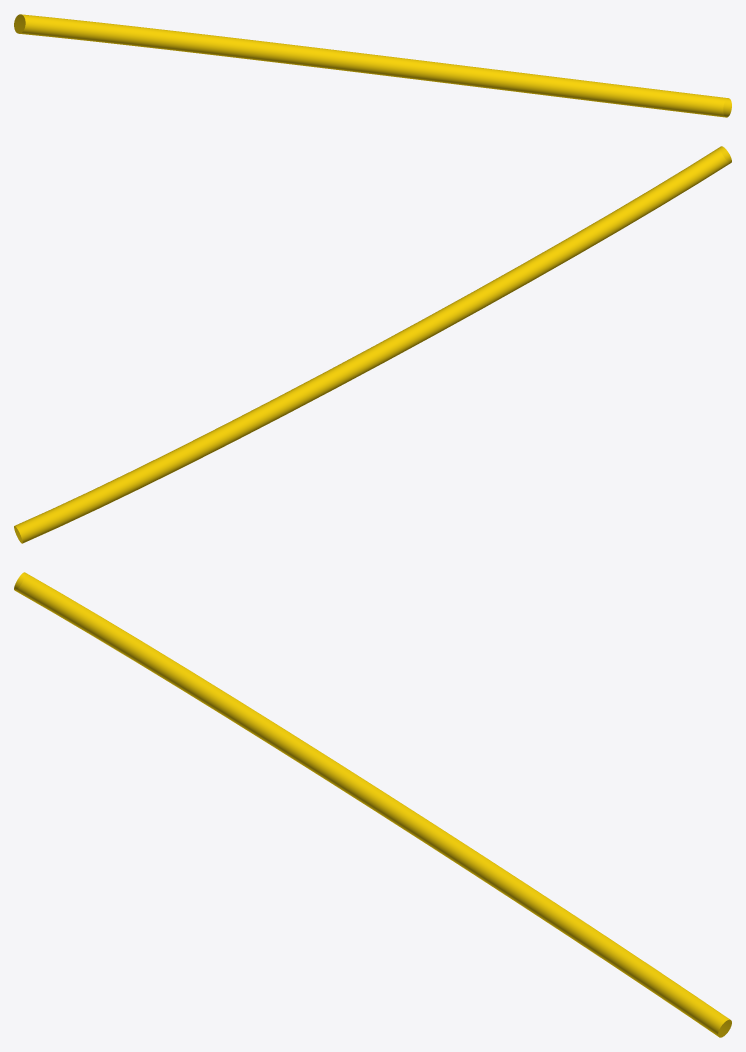
The model's file is Event_421278790_track_25.fbx.
3 views of the same model, one above another, from view 1: azimuth 30°, elevation 25°; view 2: azimuth 210°, elevation 25°; view 3: azimuth 330°, elevation 25° (orthographic). The views are drawn at different scales.
Parts seen in each view (by area): view 1: Model; view 2: Model; view 3: Model.
Boxes of the visible parts, <box> form: Model: <box>14,14,731,117</box>; Model: <box>14,146,731,543</box>; Model: <box>14,572,731,1037</box>.
Size of the model in its own units: 1.62 by 0.5607 by 0.1459.
